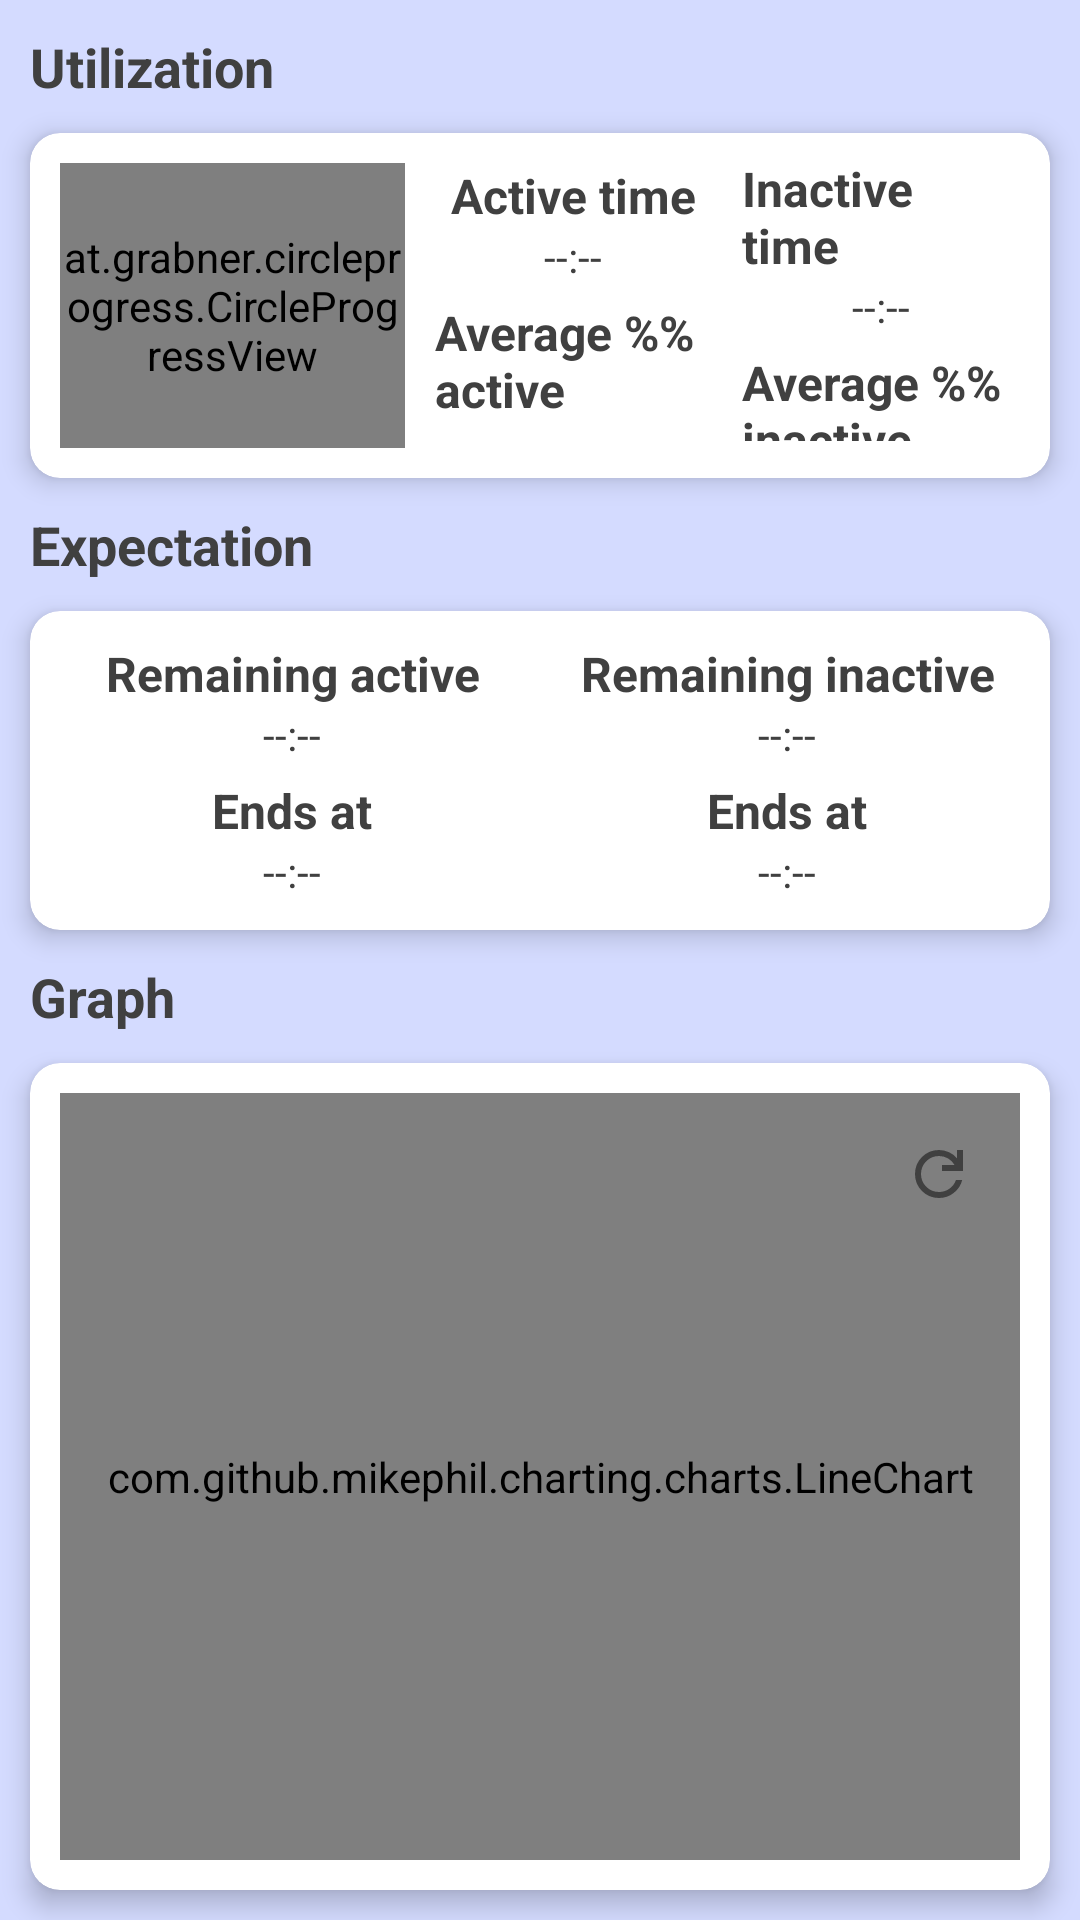

Named icons in this screenshot (1080×1920) and their centers, [x,y]:
Reset zoom: [939,1174]
